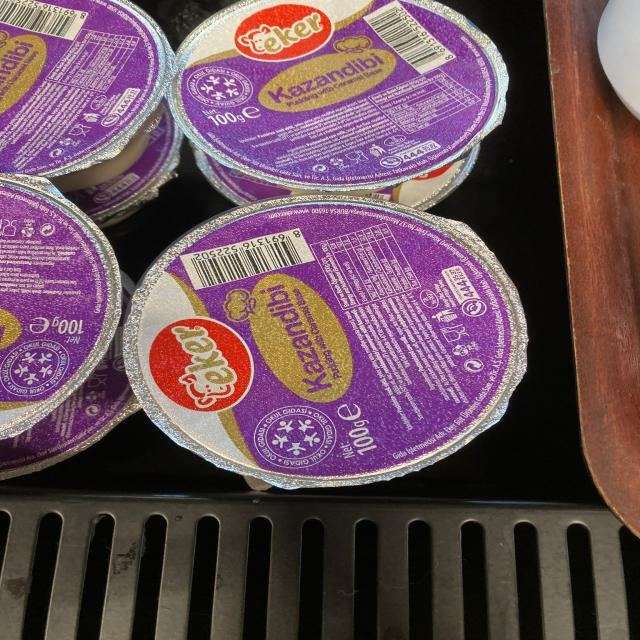yan_yemek: (121, 194, 529, 491)
